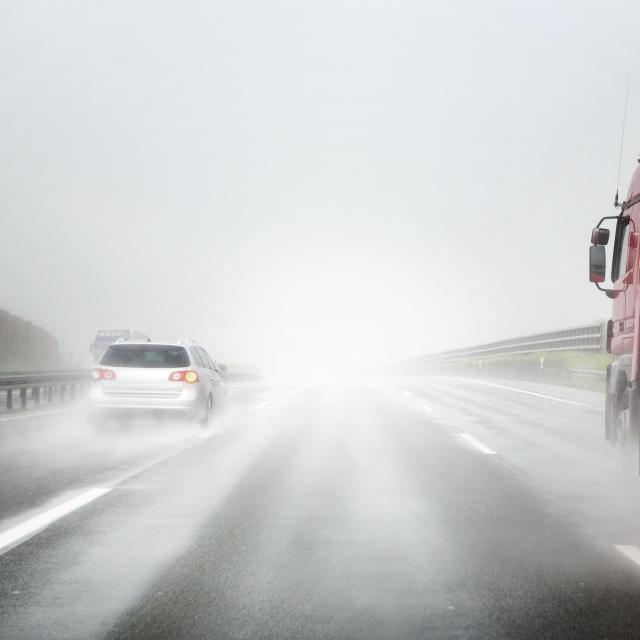bus: (589, 152, 639, 473)
car: (87, 338, 230, 423)
truck: (89, 326, 147, 362)
